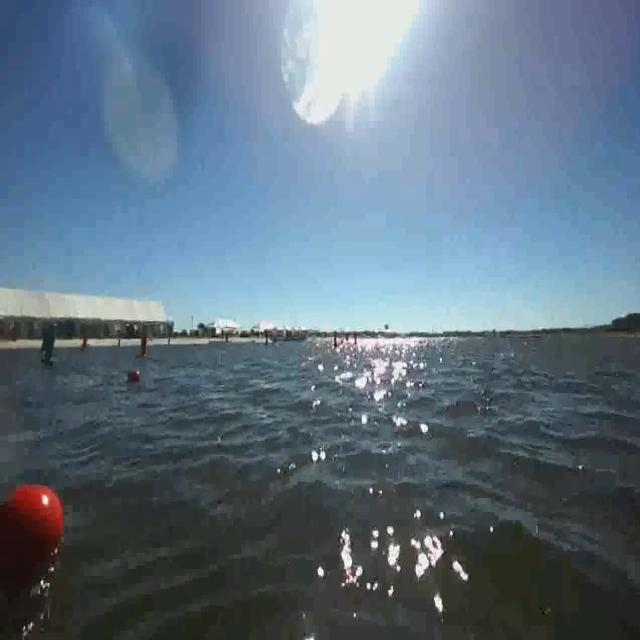green-column-buoy: (41, 328, 58, 367)
red-buoy: (9, 483, 64, 538), (129, 366, 142, 384)
red-column-buoy: (138, 330, 150, 360), (80, 332, 90, 354)
